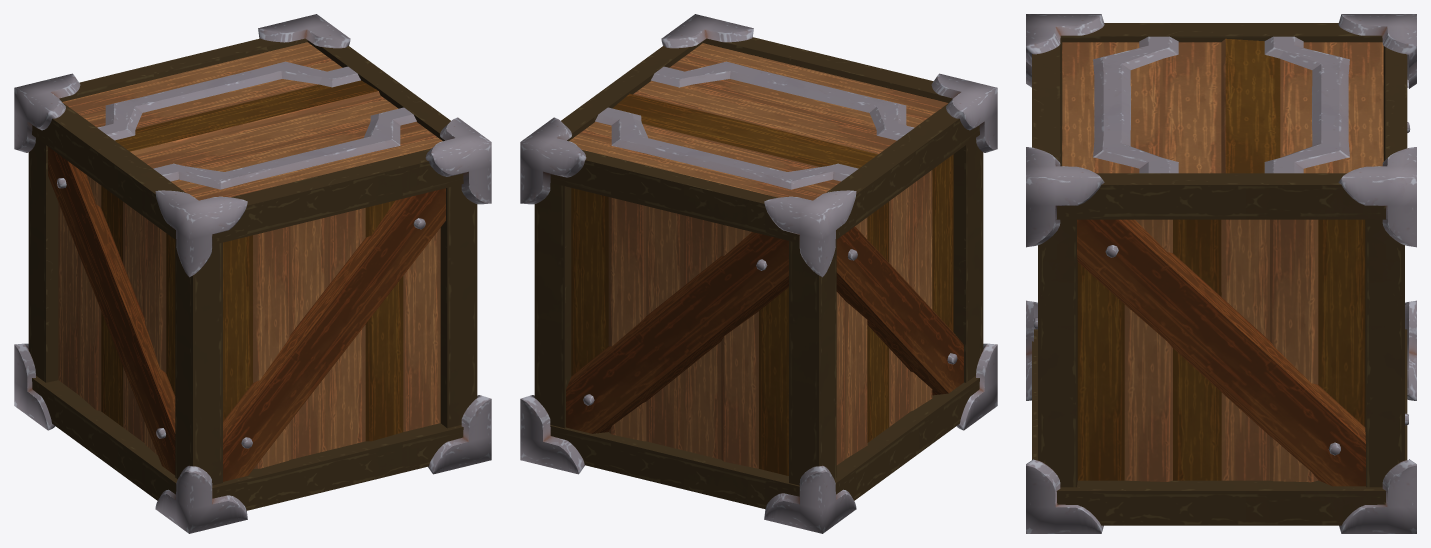
File: Crate_Metal.gltf
3 views of the same model, side by side, from view 1: azimuth 30°, elevation 25°; view 2: azimuth 150°, elevation 25°; view 3: azimuth 270°, elevation 25° (orthographic). The views are drawn at different scales.
Parts seen in each view (by area): view 1: Crate_Metal; view 2: Crate_Metal; view 3: Crate_Metal.
Part boxes in pixels (x1,y1,x2,y2): Crate_Metal: [14, 14, 491, 533]; Crate_Metal: [520, 14, 997, 533]; Crate_Metal: [1026, 14, 1416, 533].
Bounding box in the file's own units: 0.8639 × 0.8679 × 0.8659.
2 materials, 2 textured.
